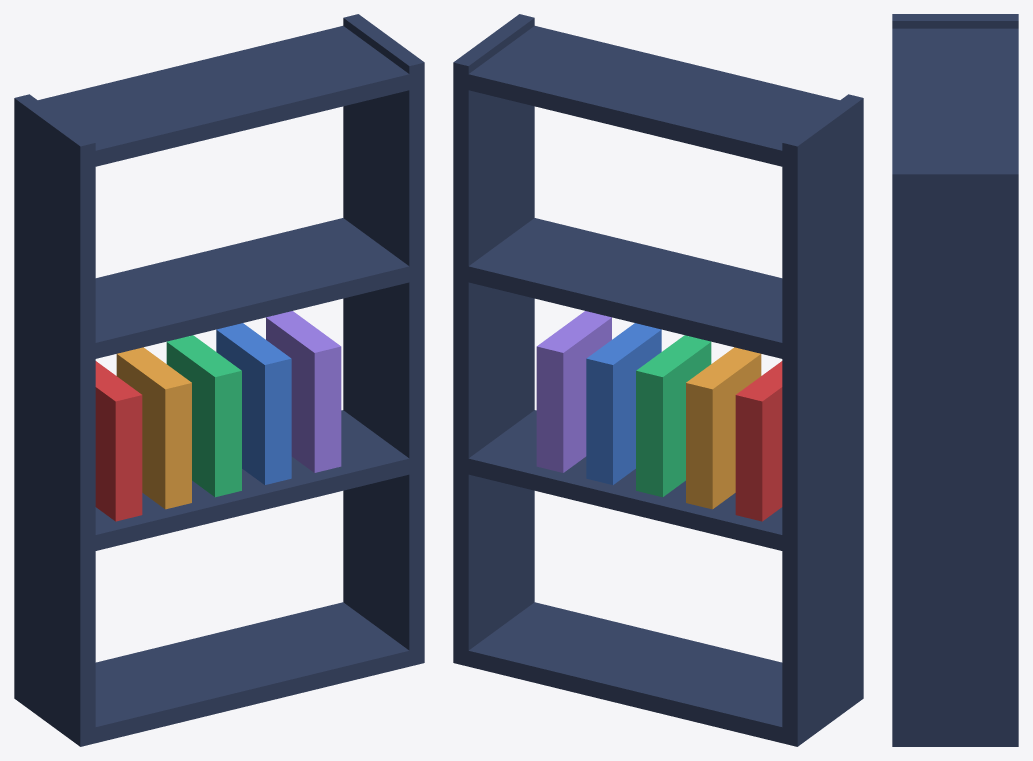
The model's file is shelf.glb.
3 views of the same model, side by side, from view 1: azimuth 30°, elevation 25°; view 2: azimuth 150°, elevation 25°; view 3: azimuth 270°, elevation 25° (orthographic). The views are drawn at different scales.
Parts seen in each view (by area): view 1: shelf; view 2: shelf; view 3: shelf.
Part boxes in pixels (x1=…): shelf: x1=14, y1=14, x2=424, y2=746; shelf: x1=453, y1=14, x2=863, y2=746; shelf: x1=892, y1=14, x2=1018, y2=746.
Size of the model in its own units: 0.9 by 1.5 by 0.3.
